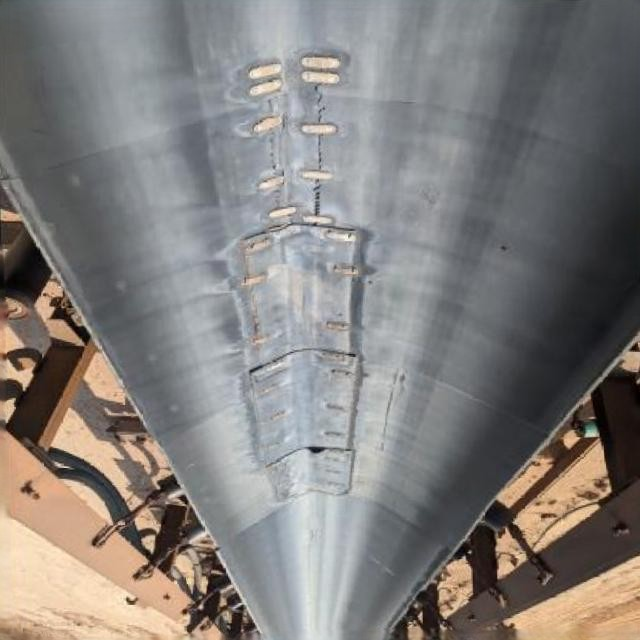Tear: (263, 132, 284, 175), (310, 81, 330, 122), (308, 178, 326, 222), (310, 132, 329, 172), (270, 185, 284, 209)
